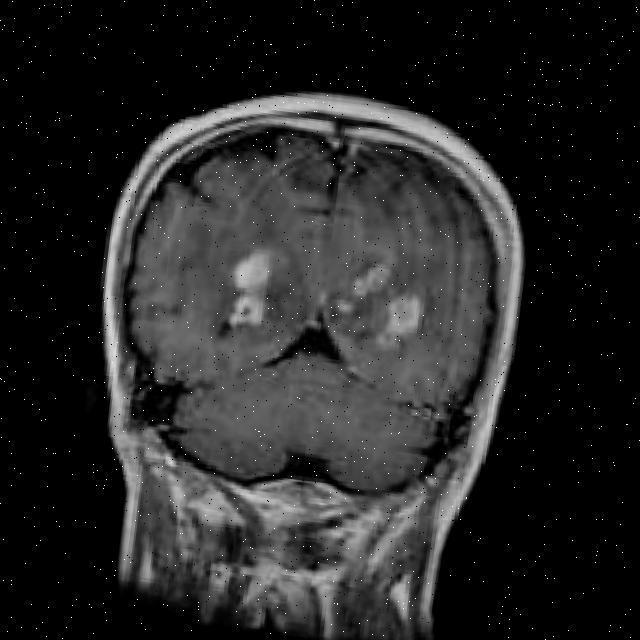EMCI: (312, 251, 454, 378)
MCI: (181, 232, 292, 364)
